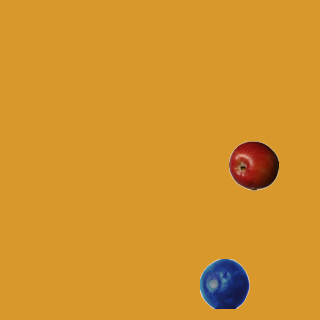Apple Braeburn: (228, 140, 278, 190)
Huckleberry: (199, 258, 249, 308)
